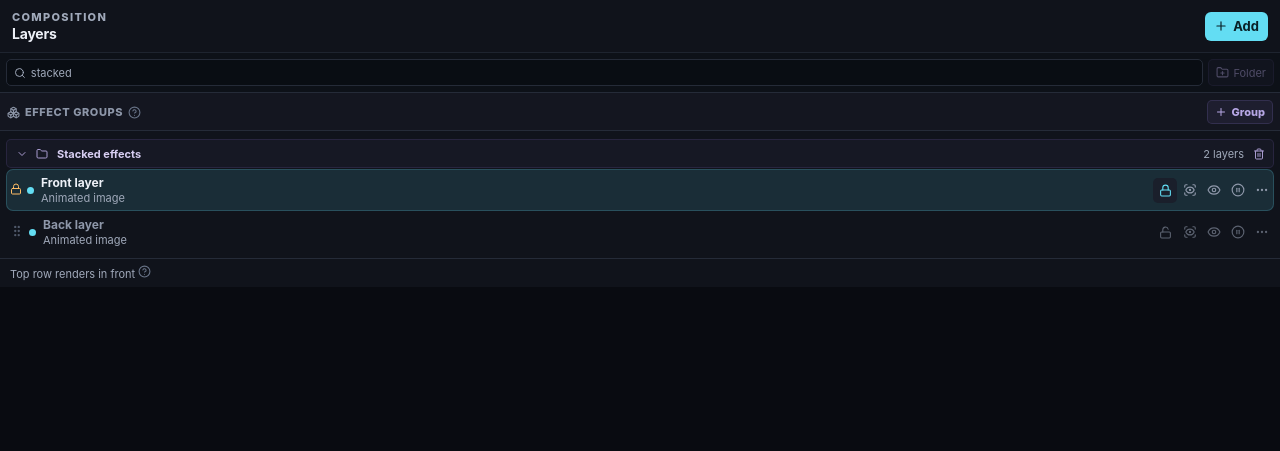
Scenario: beginner-friendly controls › preserves folders, search, and locks in the front-to-back projection
Expected: the button named "Collapse Stacked effects" is shown, [11,142,32,164]
Click the button named "Actions for Front layer" at (1261, 190), box [1249,178,1273,202]
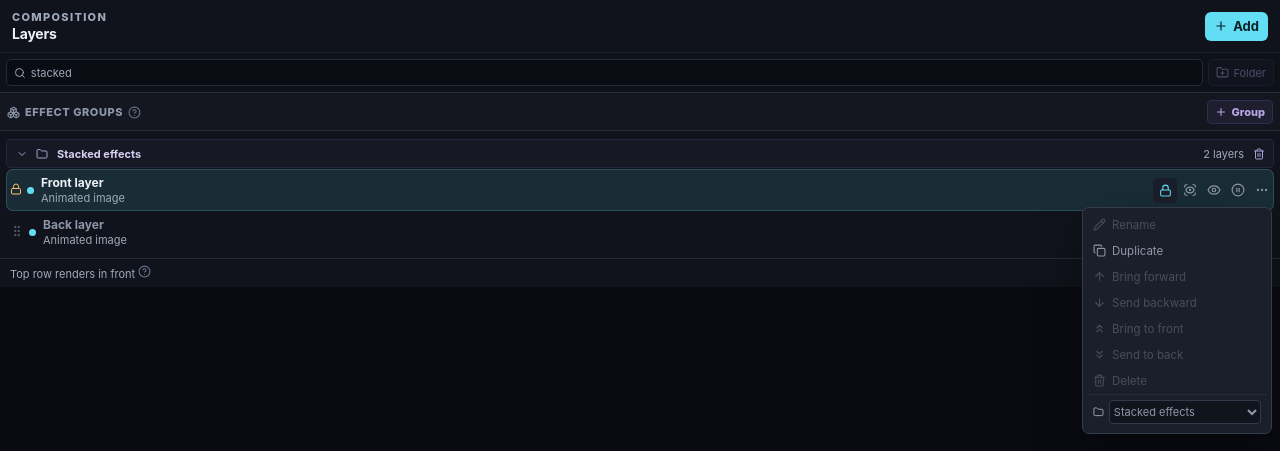
Now the menu item with aria-label "Bring Front layer forward, currently position 1 of 3" is disabled, box [1087,264,1267,290]
Now the menu item with aria-label "Send Front layer backward, currently position 1 of 3" is disabled, box [1087,290,1267,316]
Now the menu item with aria-label "Bring Front layer to front, currently position 1 of 3" is disabled, box [1087,316,1267,342]
